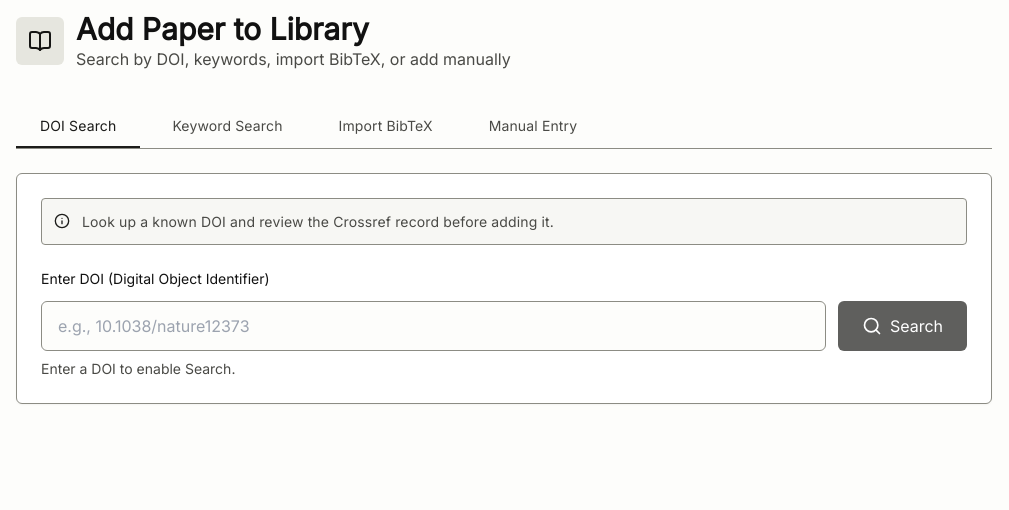
Test: AddPaperView Clear Button › should show and work clear button in Keyword search
This screenshot has width=1009, height=510.
Click the tab "Keyword Search" at (228, 126), box [148,103,307,148]
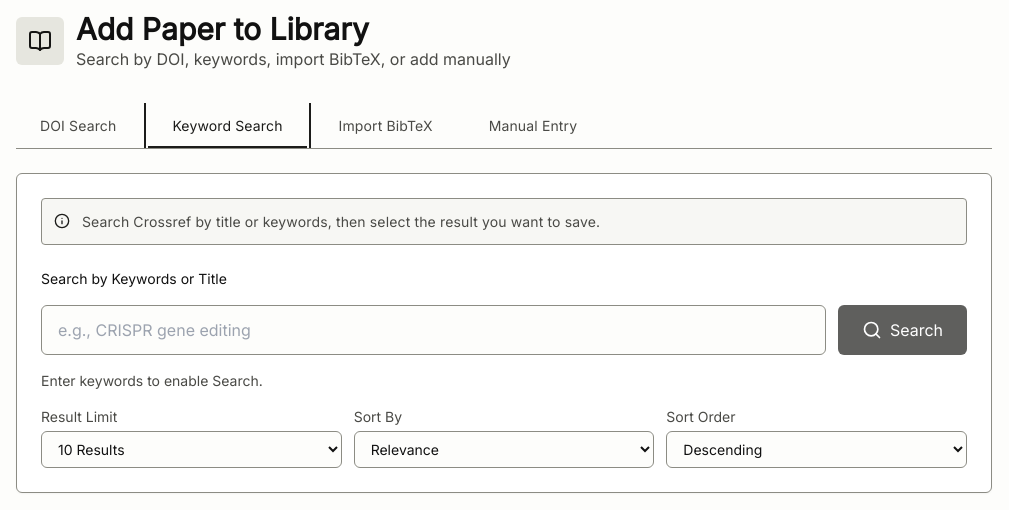
Type "quantum computing" into the field with placeholder "e.g., CRISPR gene editing" at (433, 330), box [41,305,826,355]
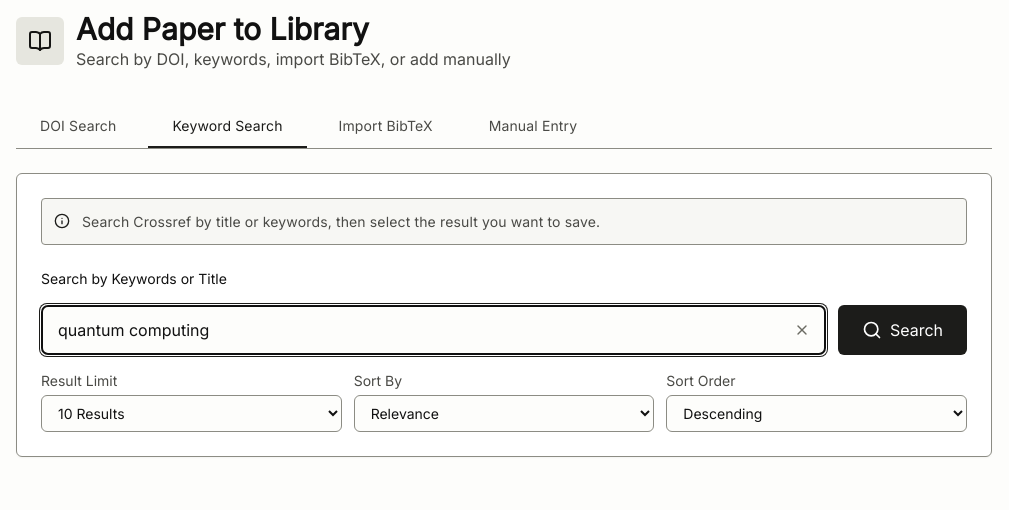
expect the button named "clear search" is shown: met
Note: Click clear button
Click the button named "clear search" at (802, 330), box [790,318,814,342]
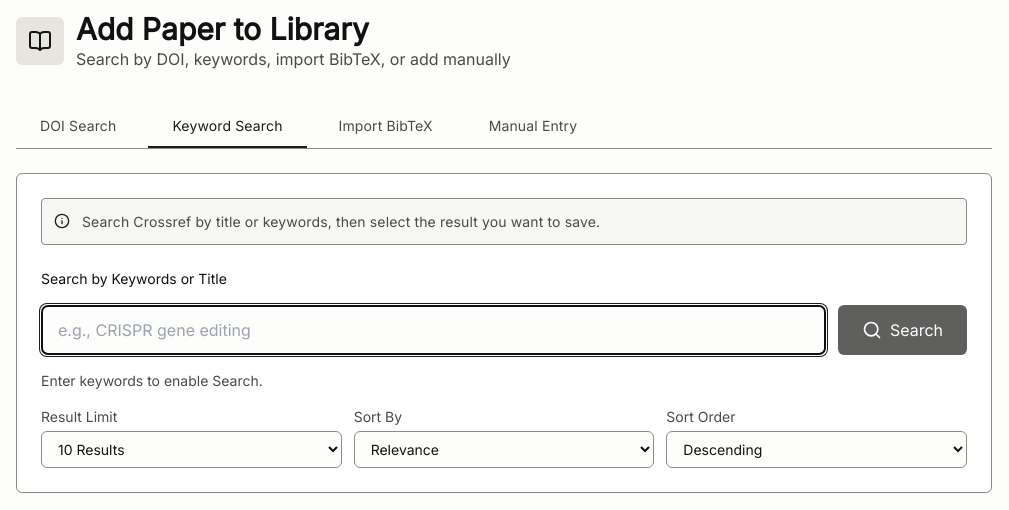
expect the field with placeholder "e.g., CRISPR gene editing" is empty: met, box [41,305,826,355]
